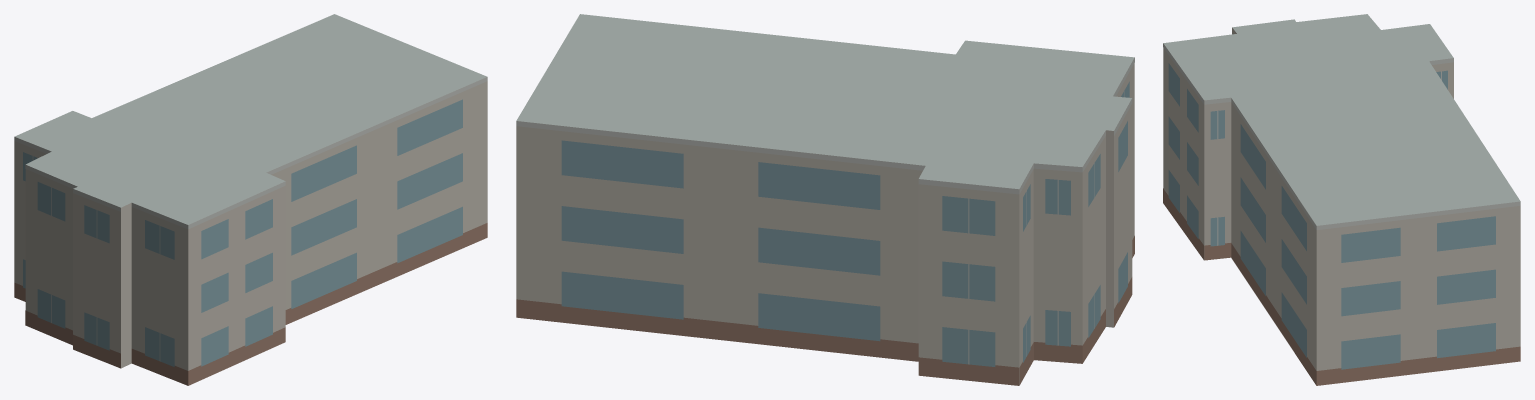
File: survey-upis-32670936.glb
3 views of the same model, side by side, from view 1: azimuth 30°, elevation 25°; view 2: azimuth 150°, elevation 25°; view 3: azimuth 270°, elevation 25° (orthographic). The views are drawn at different scales.
Parts seen in each view (by area): view 1: survey-upis-32670936.tmp; view 2: survey-upis-32670936.tmp; view 3: survey-upis-32670936.tmp.
Boxes of the visible parts, x1,y1,x2,y2 form: survey-upis-32670936.tmp: (14, 14, 487, 385); survey-upis-32670936.tmp: (516, 14, 1134, 385); survey-upis-32670936.tmp: (1163, 14, 1520, 385).
Bounding box in the file's own units: 26 × 9.15 × 18.54.
